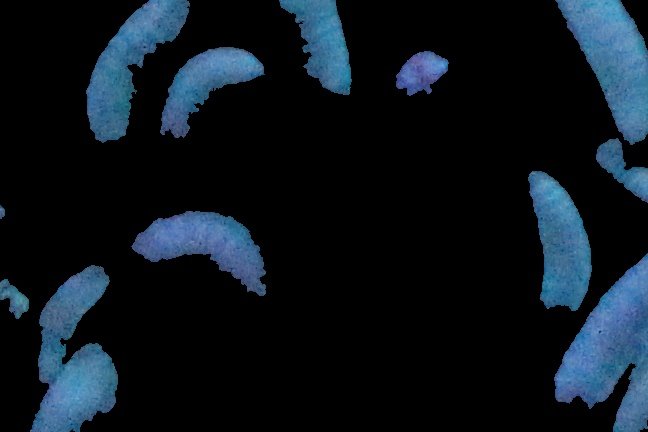larvae: (77, 1, 191, 150), (127, 207, 273, 309), (553, 254, 648, 409), (549, 1, 648, 145), (155, 46, 266, 148), (530, 168, 595, 315), (37, 266, 110, 381), (271, 1, 353, 97), (30, 345, 116, 432)
